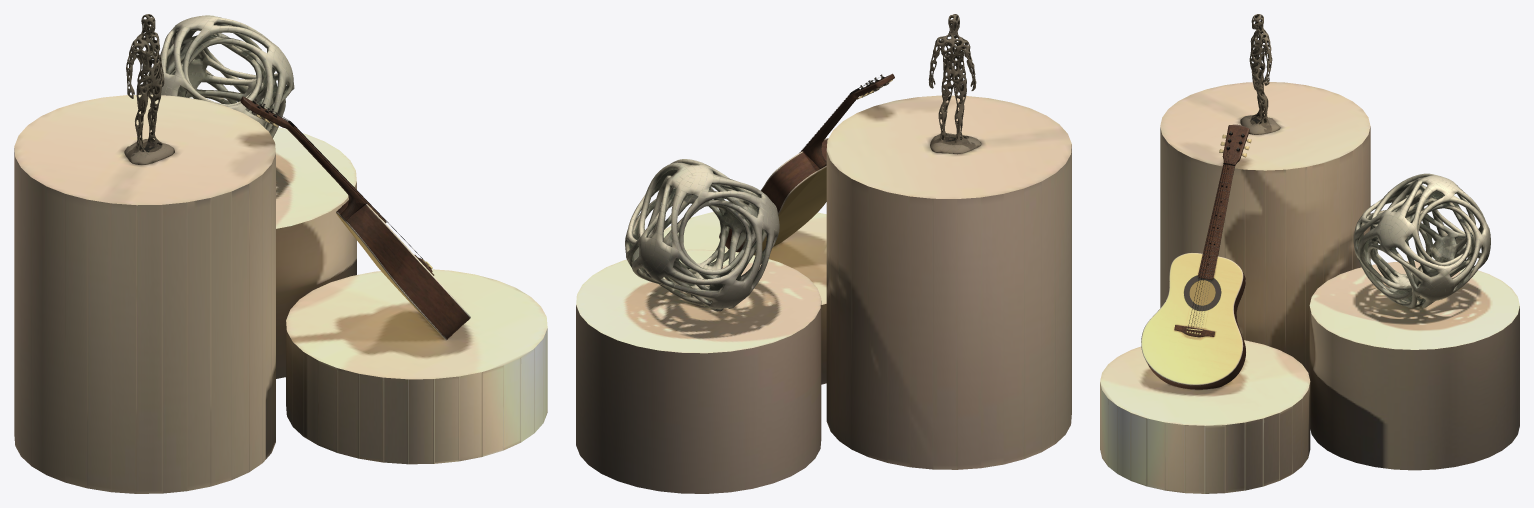
File: PortfolioArtPageFinal2.glb
3 views of the same model, side by side, from view 1: azimuth 30°, elevation 25°; view 2: azimuth 150°, elevation 25°; view 3: azimuth 270°, elevation 25° (orthographic). The views are drawn at different scales.
Visible parts, largest first — view 1: Cylinder.005, Cylinder.003, Cylinder.004, abstract_cube.001, body, GLMan, neck; view 2: Cylinder.005, Cylinder.004, abstract_cube.001, Cylinder.003, body, GLMan, neck; view 3: Cylinder.005, Cylinder.004, Cylinder.003, abstract_cube.001, body, GLMan, freatboard, neck, strings, rosette.
Boxes of the visible parts, left/top/right/bottom form: Cylinder.005: left=14, top=94, right=275, bottom=493; Cylinder.003: left=286, top=269, right=547, bottom=464; Cylinder.004: left=271, top=127, right=356, bottom=378; abstract_cube.001: left=138, top=15, right=294, bottom=138; body: left=336, top=200, right=470, bottom=340; GLMan: left=124, top=14, right=174, bottom=164; neck: left=240, top=96, right=366, bottom=220; Cylinder.005: left=826, top=95, right=1071, bottom=469; Cylinder.004: left=576, top=249, right=821, bottom=493; abstract_cube.001: left=625, top=159, right=779, bottom=311; Cylinder.003: left=663, top=212, right=826, bottom=384; body: left=719, top=138, right=828, bottom=255; GLMan: left=928, top=14, right=981, bottom=154; neck: left=803, top=73, right=894, bottom=168; Cylinder.005: left=1160, top=81, right=1370, bottom=377; Cylinder.004: left=1309, top=261, right=1519, bottom=470; Cylinder.003: left=1100, top=340, right=1310, bottom=493; abstract_cube.001: left=1353, top=173, right=1490, bottom=307; body: left=1141, top=253, right=1246, bottom=389; GLMan: left=1240, top=14, right=1280, bottom=134; freatboard: left=1197, top=164, right=1234, bottom=279; neck: left=1217, top=124, right=1249, bottom=255; strings: left=1187, top=133, right=1237, bottom=331; rosette: left=1184, top=275, right=1221, bottom=310.
Bounding box in the file's own units: 4.01 × 3.55 × 3.94.
11 materials, 11 textured.
